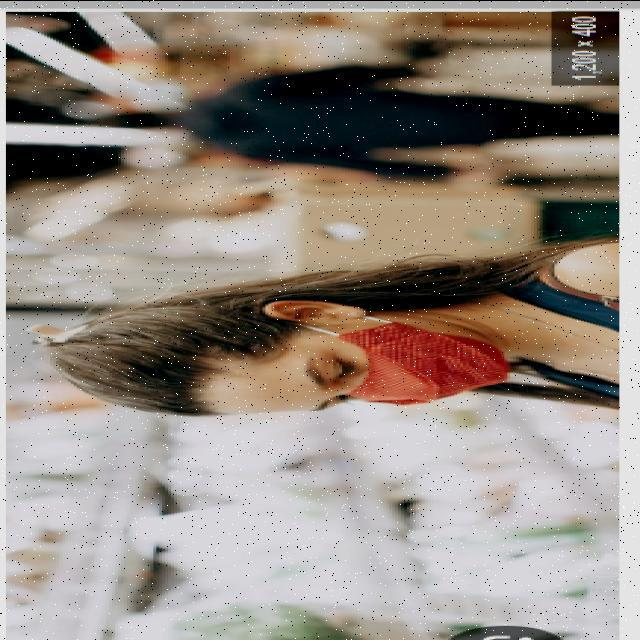face_mask: (183, 301, 515, 415)
